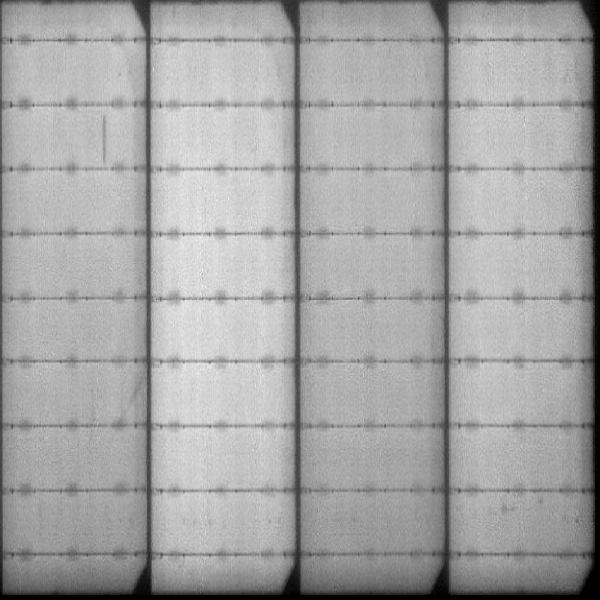scratch: (100, 115, 109, 162)
